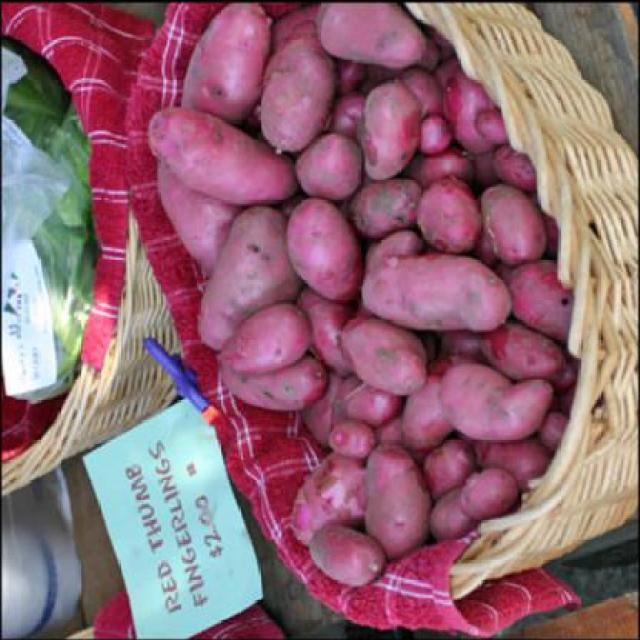Potato: (144, 2, 581, 584), (146, 106, 300, 208), (280, 193, 362, 307)
